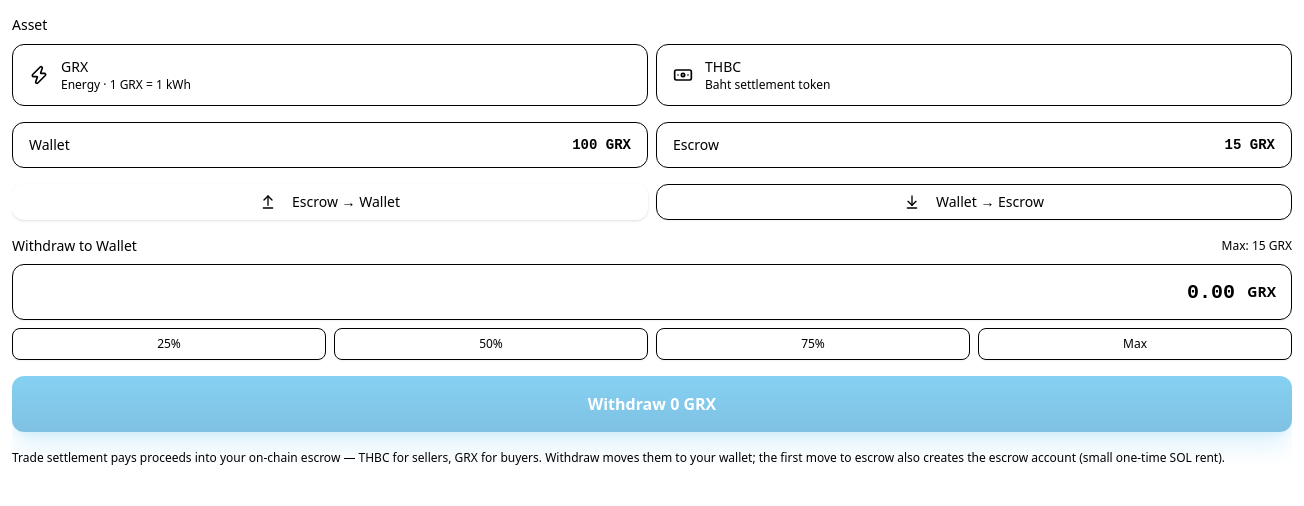
it: EscrowManager › blocks amounts above the available balance
The width and height of the screenshot is (1304, 506).
Step 1. Type "41" into the number field with test id "escrow-amount-input" → (652, 292), box [12, 264, 1292, 320]
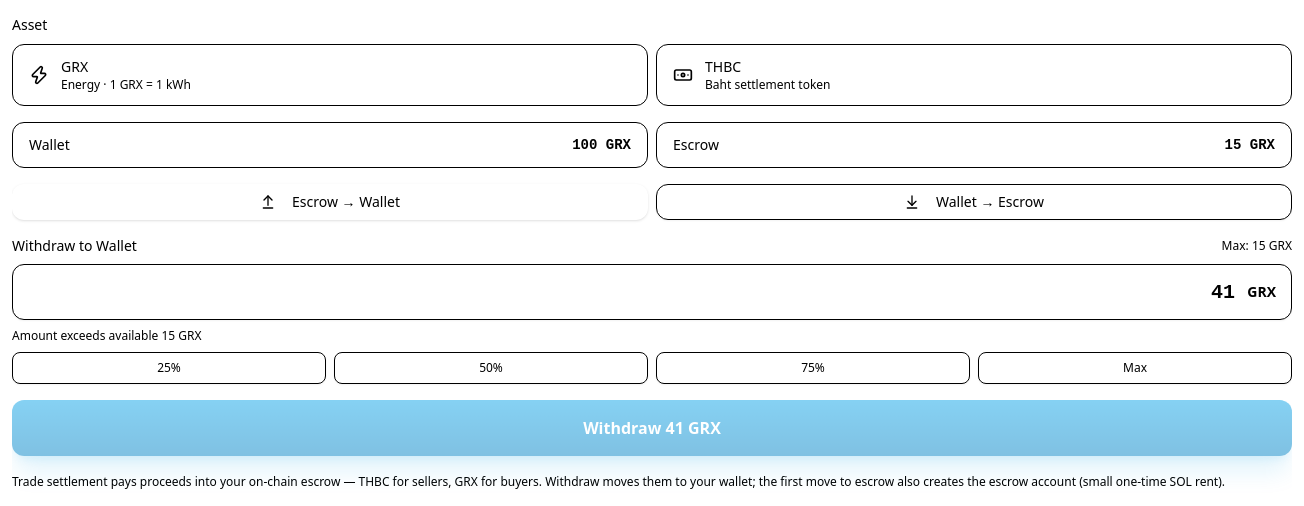
Check: the button with test id "escrow-manager-submit" is disabled, box [12, 400, 1292, 456]
Check: the message shows "exceeds available", box [12, 327, 202, 344]
